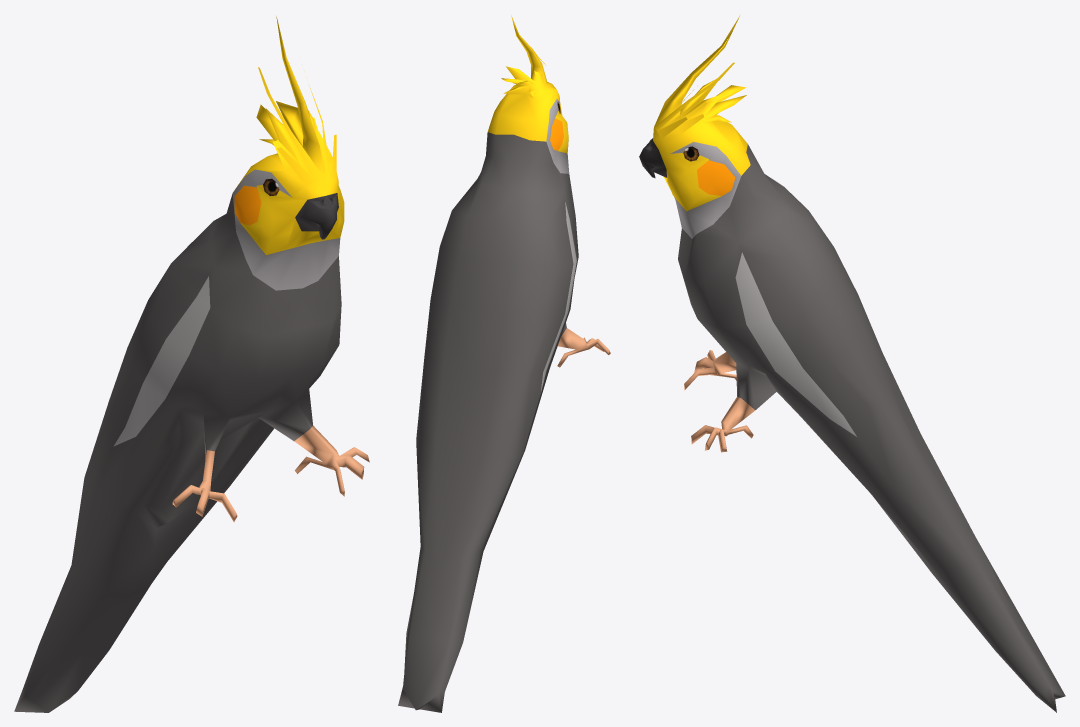
The model's file is e9b84067-c558-4414-baf4-e3d7cf46ee7e.glb.
3 views of the same model, side by side, from view 1: azimuth 30°, elevation 25°; view 2: azimuth 150°, elevation 25°; view 3: azimuth 270°, elevation 25° (orthographic). The views are drawn at different scales.
Visible parts, largest first — view 1: Cockatiel; view 2: Cockatiel; view 3: Cockatiel.
Part boxes in pixels (left/top/right/bottom): Cockatiel: left=14, top=16, right=369, bottom=712; Cockatiel: left=398, top=15, right=610, bottom=712; Cockatiel: left=639, top=16, right=1065, bottom=712.
Size of what is drawn, in the model's own units: 0.2309 by 0.8915 by 0.4846.
1 material, 1 textured.
